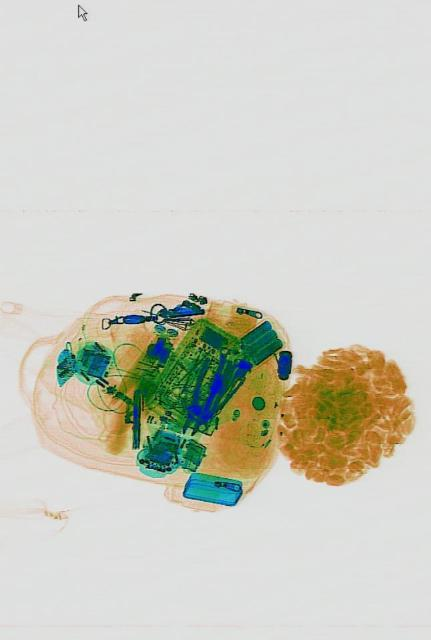Pliers: (174, 352, 231, 444)
Wrench: (196, 344, 227, 436)
